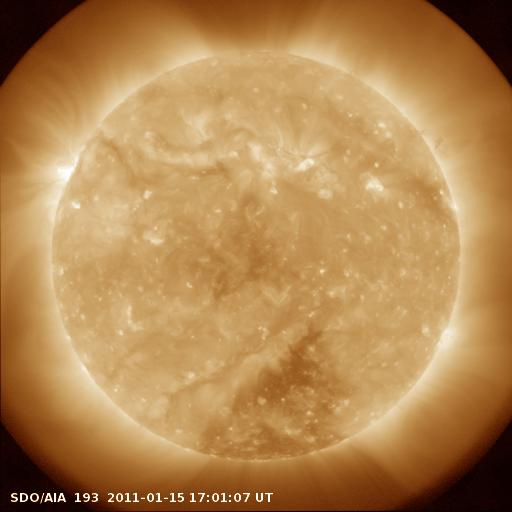coronal_hole: (201, 315, 342, 474)
